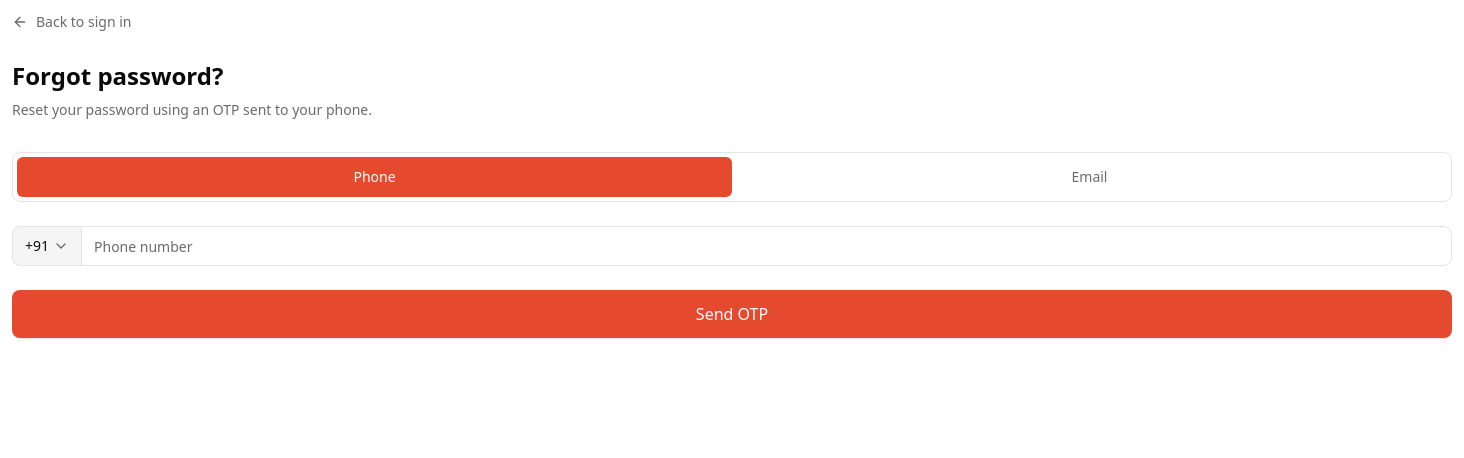
ForgotPasswordPage account enumeration › is indistinguishable from the success path for an unknown identifier
Click the tab "Email": (1090, 177) [732,157,1447,197]
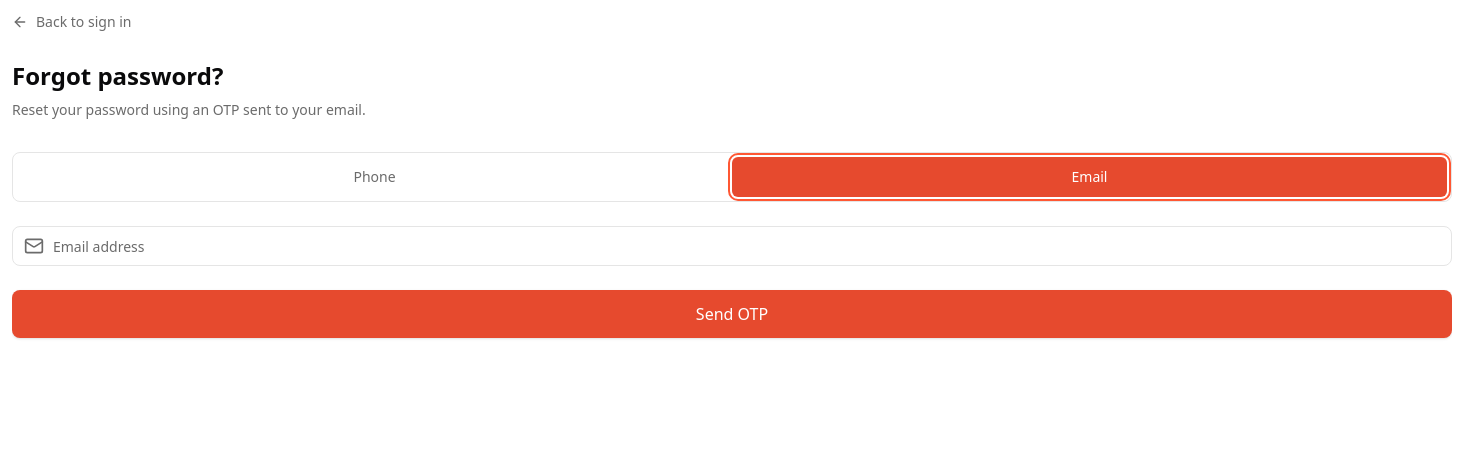
In the field labelled "Email address": (732, 246) [12,226,1452,266], type "nobody@example.com"
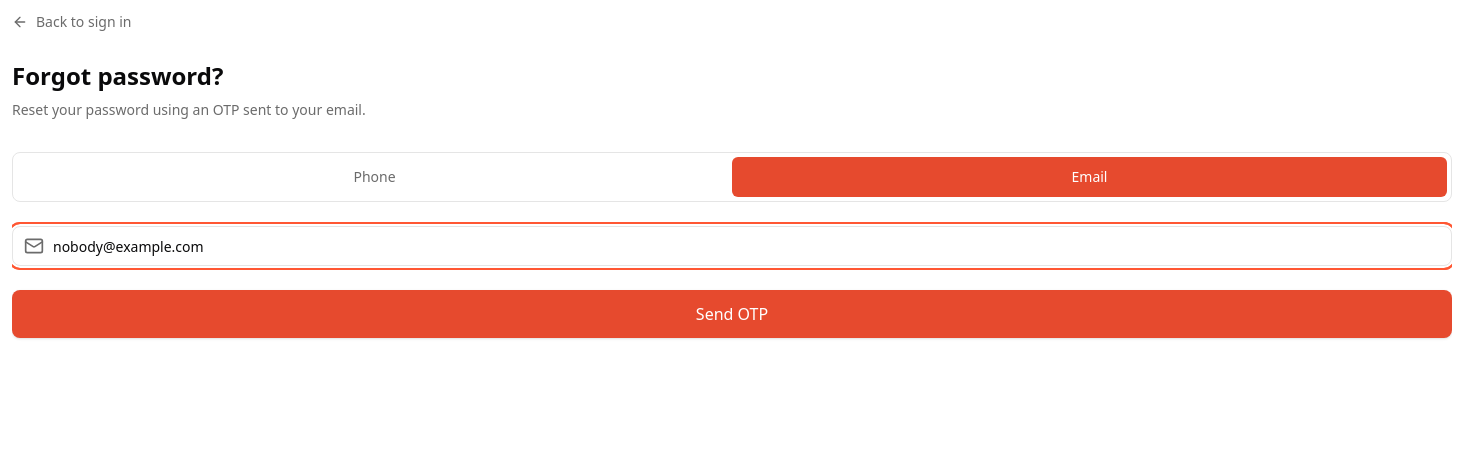
Click the button "Send OTP": (732, 314) [12,290,1452,338]
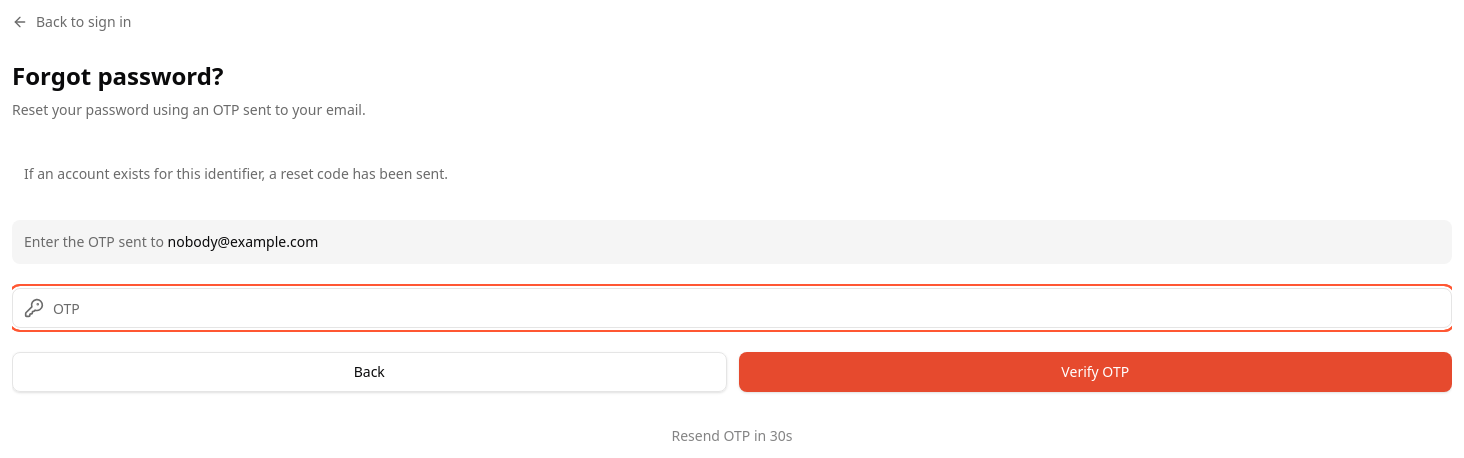
expect the text "If an account exists for this identifier, a reset code has been sent." is shown: met, box [24,164,448,183]
expect the text "Enter the OTP sent to nobody@example.com" is shown: met, box [12,220,1452,264]
